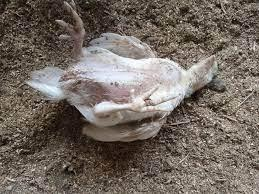AbNormal: (29, 8, 220, 145)
